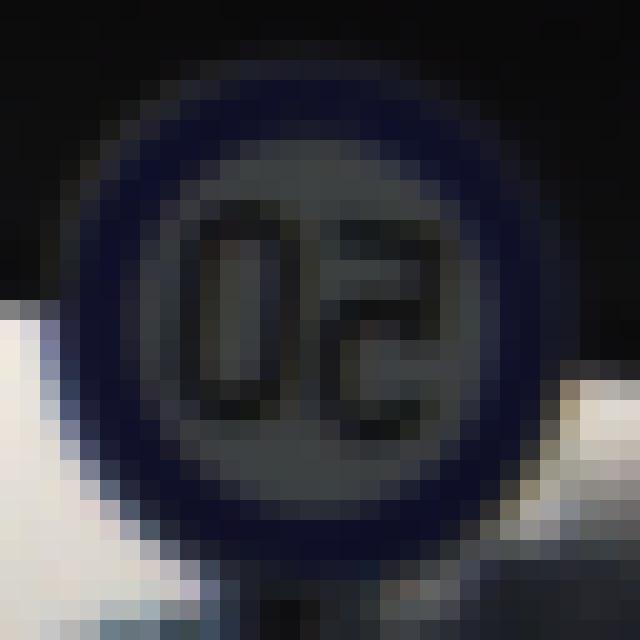SPEED LIMIT 50: (66, 102, 558, 560)
